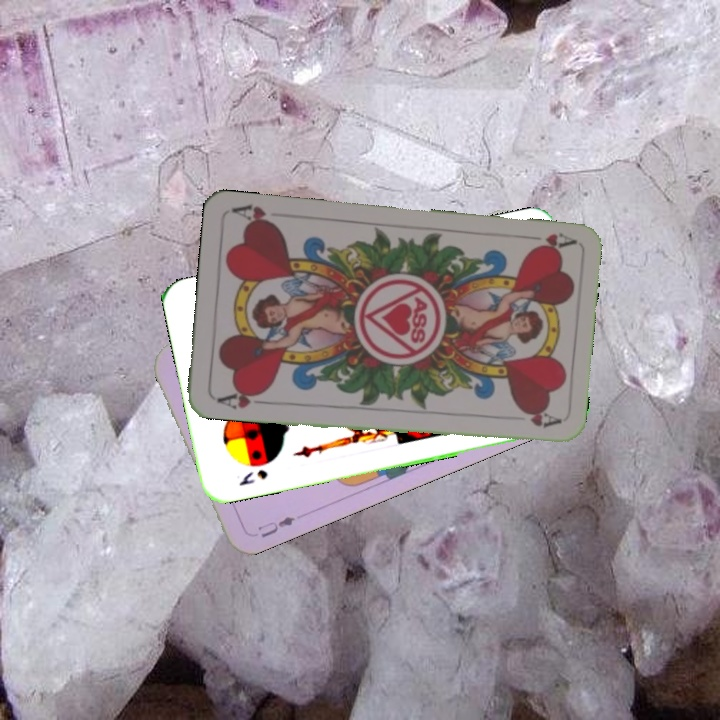EU: (253, 512, 297, 540)
HA: (213, 385, 270, 412), (517, 229, 576, 255)
SK: (235, 465, 270, 489)
